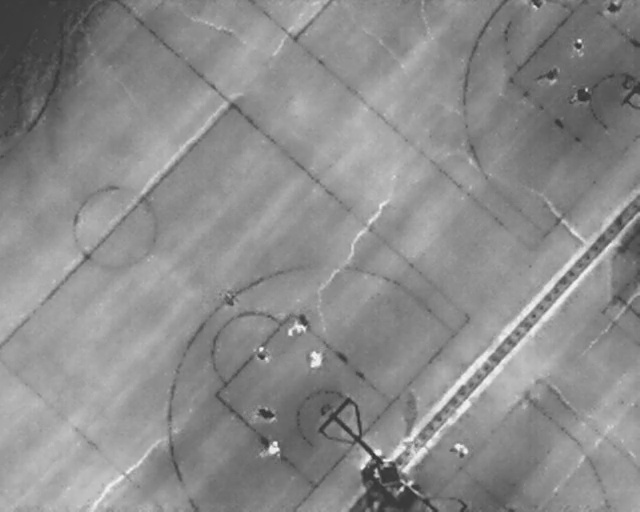Person: (566, 80, 596, 111), (540, 61, 565, 90), (451, 442, 469, 462), (265, 440, 282, 461), (571, 36, 585, 58), (255, 344, 270, 363), (292, 317, 306, 337), (223, 288, 236, 308), (606, 1, 623, 16), (310, 350, 322, 368), (528, 0, 546, 11)
